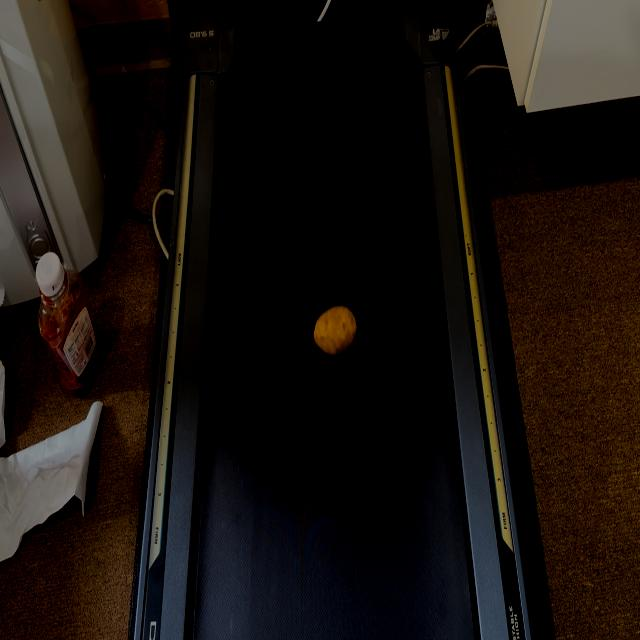Recycle: (314, 306, 358, 356)
